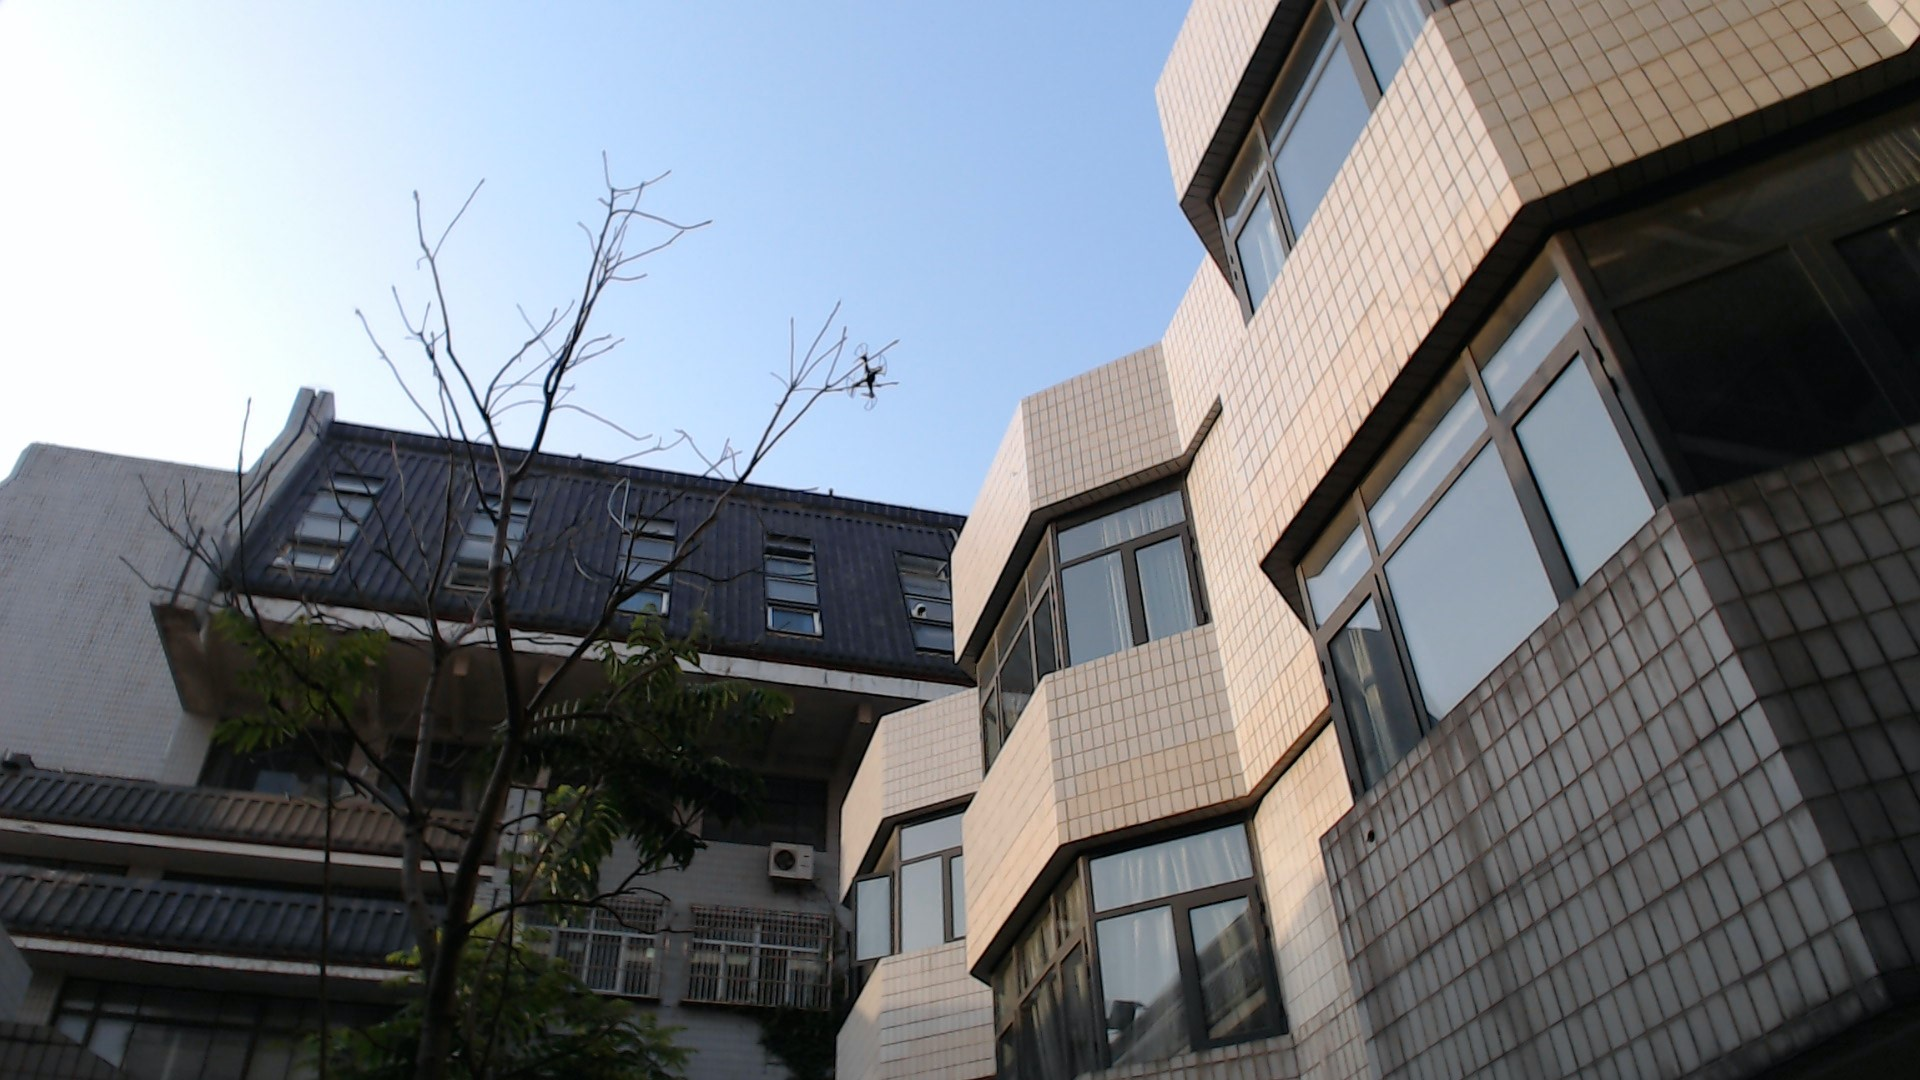drone: (810, 334, 924, 423)
